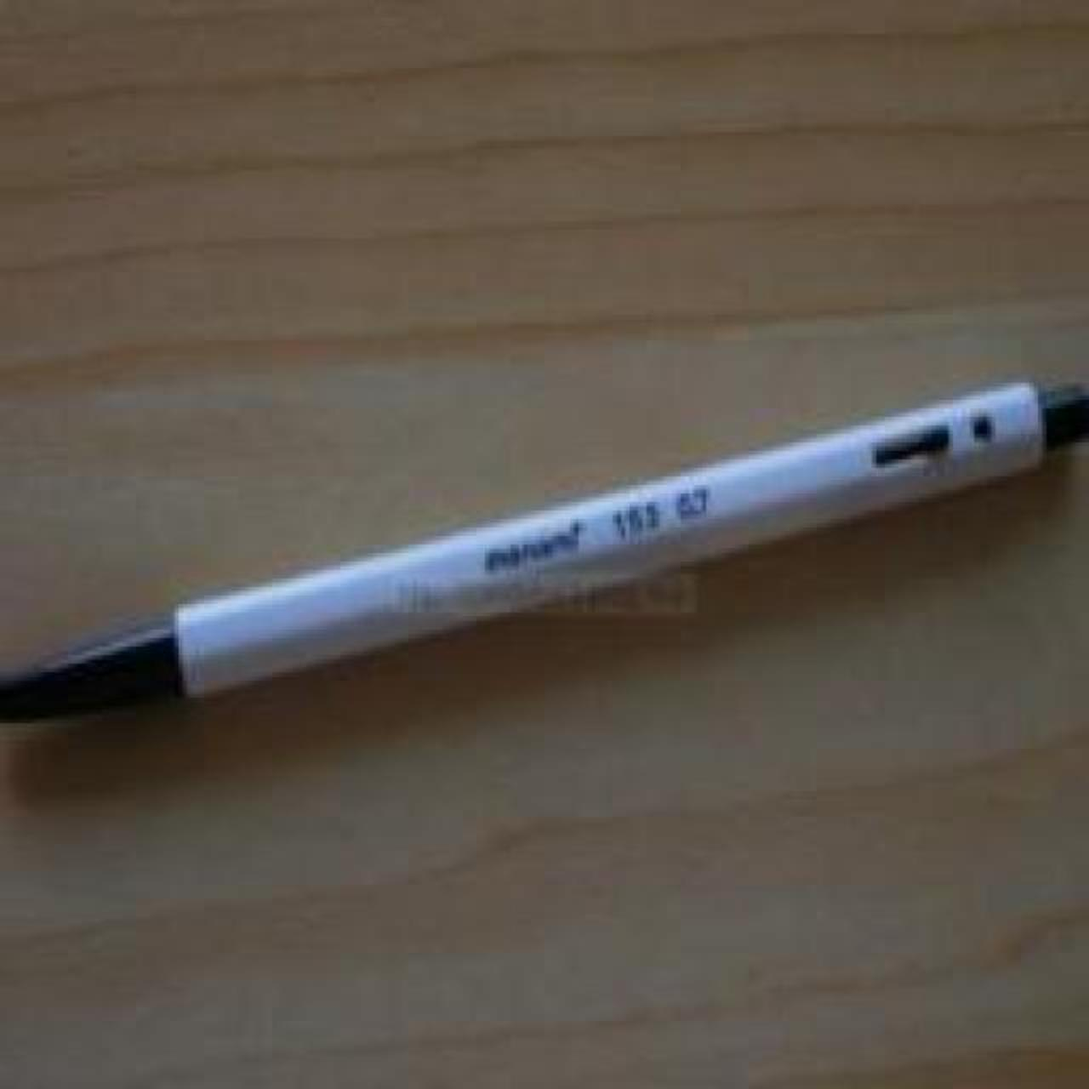pen: (0, 379, 1089, 733)
